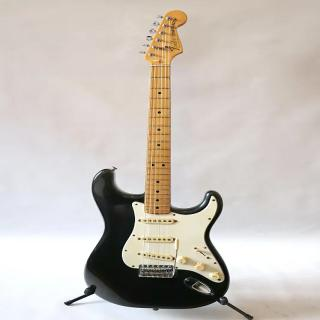Fender Stratocaster: (83, 8, 234, 315)
SSS: (136, 213, 187, 271)
